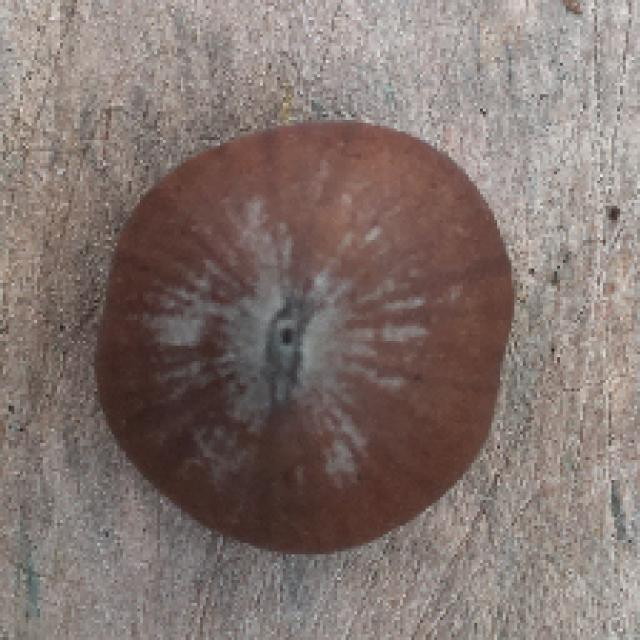DamagedHazelnut: (97, 119, 515, 554)
